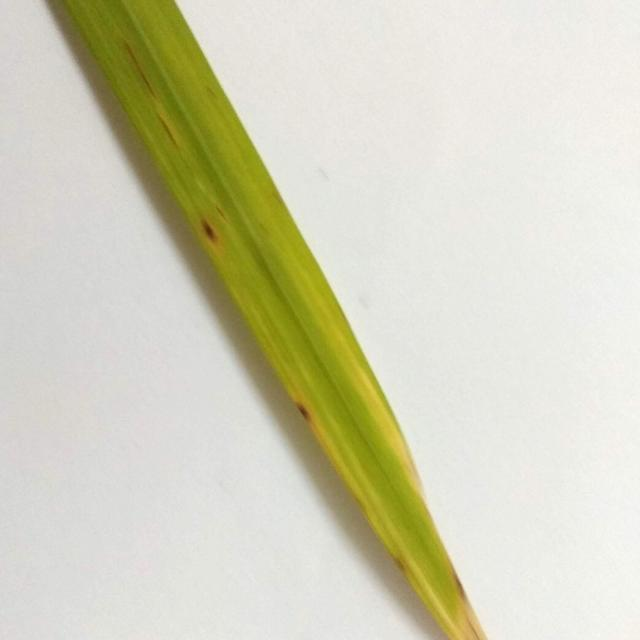Brown spot: (42, 2, 492, 640)
